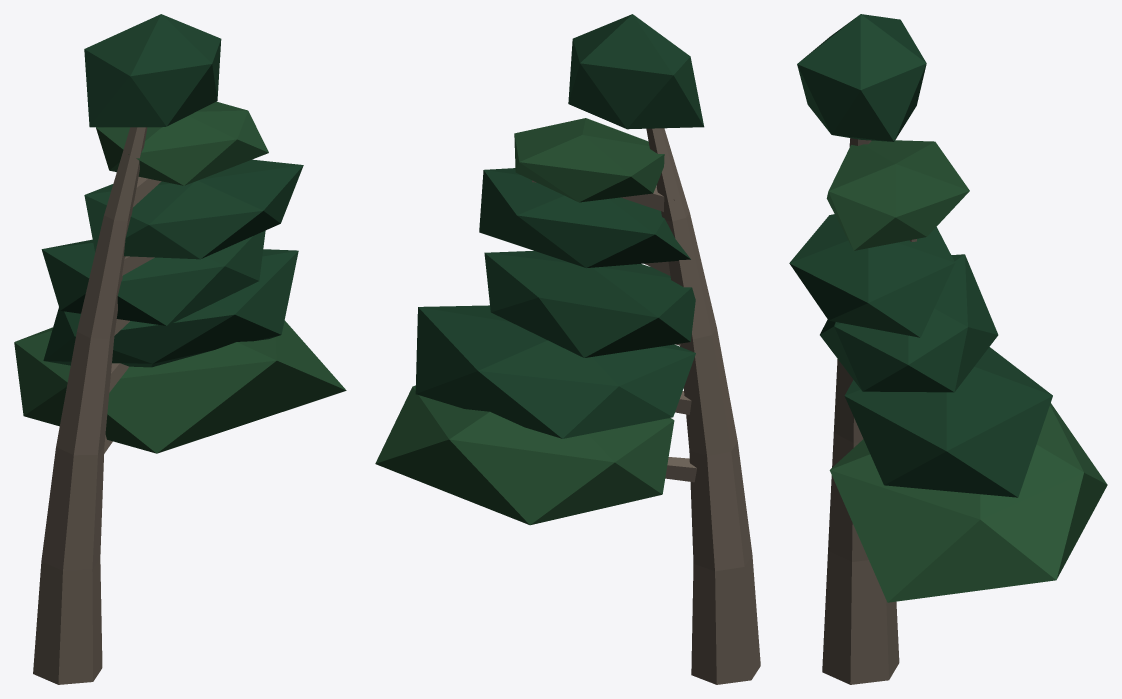
The model's file is Tree_Alpine_C.glb.
3 renders of one model, left to right at view 1: azimuth 30°, elevation 25°; view 2: azimuth 150°, elevation 25°; view 3: azimuth 270°, elevation 25°, orthographic. The views are drawn at different scales.
Parts seen in each view (by area): view 1: Tree_Alpine_C; view 2: Tree_Alpine_C; view 3: Tree_Alpine_C.
Part boxes in pixels (x1,y1,x2,y2): Tree_Alpine_C: (14, 14, 346, 684); Tree_Alpine_C: (375, 14, 760, 684); Tree_Alpine_C: (789, 14, 1107, 684).
Size of the model in its own units: 2.06 by 3.89 by 1.59.
